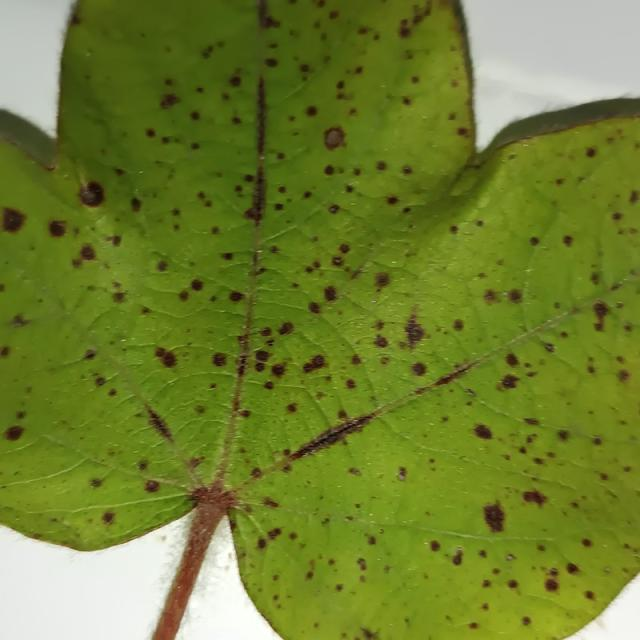Bacterial_Blight: (468, 496, 512, 540), (428, 360, 479, 389), (188, 481, 233, 511), (142, 402, 174, 444), (399, 4, 430, 39), (402, 314, 426, 349), (176, 278, 206, 304), (78, 181, 106, 207), (1, 206, 27, 233), (302, 353, 328, 375), (322, 127, 346, 150), (521, 489, 547, 508), (157, 348, 177, 369), (48, 219, 68, 238), (472, 423, 493, 440), (4, 425, 25, 442), (159, 92, 180, 109), (592, 300, 610, 319), (253, 349, 271, 368), (78, 244, 97, 262), (499, 374, 520, 390), (373, 271, 391, 289), (244, 205, 262, 223), (261, 13, 280, 30), (270, 361, 288, 378), (10, 314, 31, 328), (410, 361, 427, 377), (211, 352, 228, 368), (323, 285, 338, 302), (277, 321, 294, 336), (482, 289, 498, 304), (451, 548, 464, 566), (361, 626, 379, 639), (373, 334, 388, 349), (144, 479, 160, 493), (508, 289, 523, 303), (544, 578, 559, 592), (228, 290, 244, 303), (82, 348, 98, 361), (101, 511, 115, 525), (190, 278, 204, 292), (505, 353, 519, 367), (307, 301, 321, 315), (112, 290, 126, 304), (556, 428, 570, 441), (228, 74, 242, 87), (130, 197, 142, 212), (399, 23, 411, 38), (523, 417, 540, 427), (617, 370, 630, 383), (89, 477, 103, 489), (263, 498, 279, 508), (305, 105, 318, 117), (156, 260, 169, 272), (566, 562, 579, 574), (452, 319, 465, 331), (331, 255, 344, 267), (543, 341, 556, 353), (264, 57, 278, 68), (396, 467, 407, 481), (429, 540, 441, 552), (345, 378, 357, 390), (285, 402, 297, 414), (562, 235, 574, 247), (356, 558, 367, 571), (375, 160, 388, 171), (323, 164, 335, 175), (178, 290, 189, 302), (585, 147, 597, 158), (338, 243, 350, 254), (507, 579, 519, 590), (94, 376, 106, 387), (386, 196, 399, 206), (257, 537, 267, 550), (348, 467, 362, 476), (366, 535, 377, 546), (189, 110, 200, 121), (401, 165, 413, 175), (612, 211, 624, 221), (584, 590, 596, 600), (328, 204, 340, 214), (0, 346, 10, 358), (529, 236, 540, 246), (263, 380, 274, 390), (592, 436, 603, 446), (145, 128, 156, 138), (457, 127, 468, 137), (221, 252, 233, 261), (239, 409, 251, 418), (521, 616, 531, 626), (581, 538, 592, 547), (468, 622, 478, 631), (505, 553, 515, 562)
Cotton: (0, 0, 639, 639)
